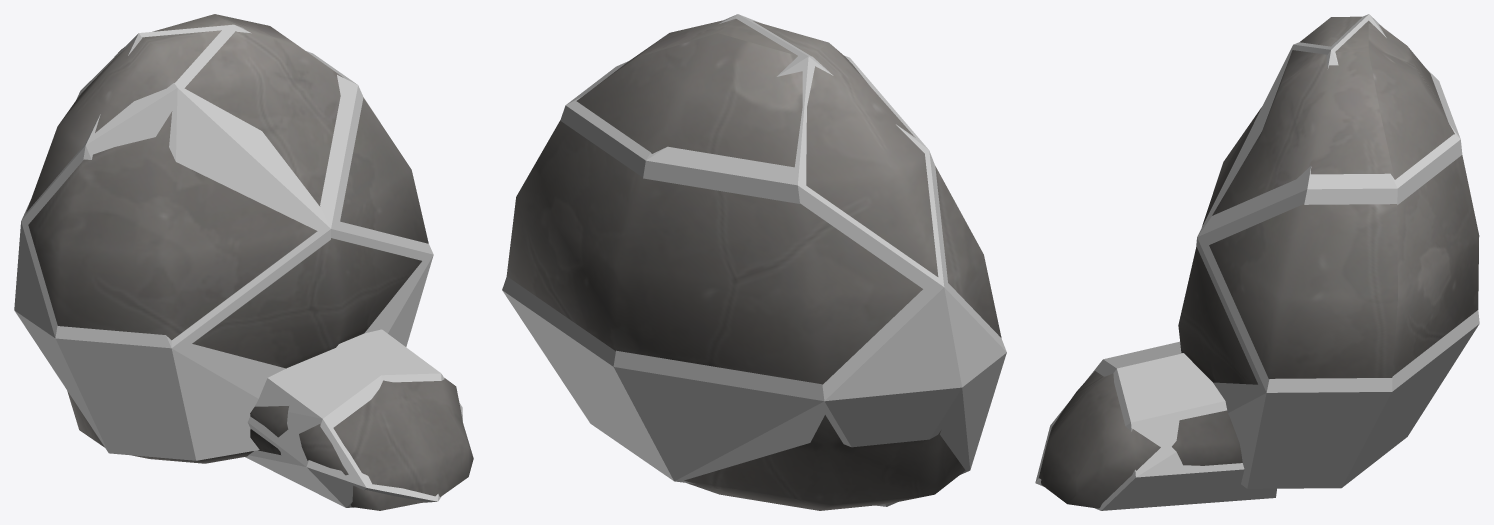
File: SM_Stones01_5.fbx
3 views of the same model, side by side, from view 1: azimuth 30°, elevation 25°; view 2: azimuth 150°, elevation 25°; view 3: azimuth 270°, elevation 25° (orthographic). The views are drawn at different scales.
Visible parts, largest first — view 1: SM_Stones01_5, SM_Stones01_5_ConvexHulls; view 2: SM_Stones01_5, SM_Stones01_5_ConvexHulls; view 3: SM_Stones01_5, SM_Stones01_5_ConvexHulls.
Boxes of the visible parts, x1,y1,x2,y2 form: SM_Stones01_5: (26, 14, 473, 510); SM_Stones01_5_ConvexHulls: (14, 24, 462, 507); SM_Stones01_5: (506, 18, 1001, 510); SM_Stones01_5_ConvexHulls: (502, 14, 1006, 506); SM_Stones01_5: (1039, 16, 1479, 508); SM_Stones01_5_ConvexHulls: (1035, 14, 1479, 510).
Size of the model in its own units: 156 by 156 by 157.
Materials: 2 (1 with a texture image).
